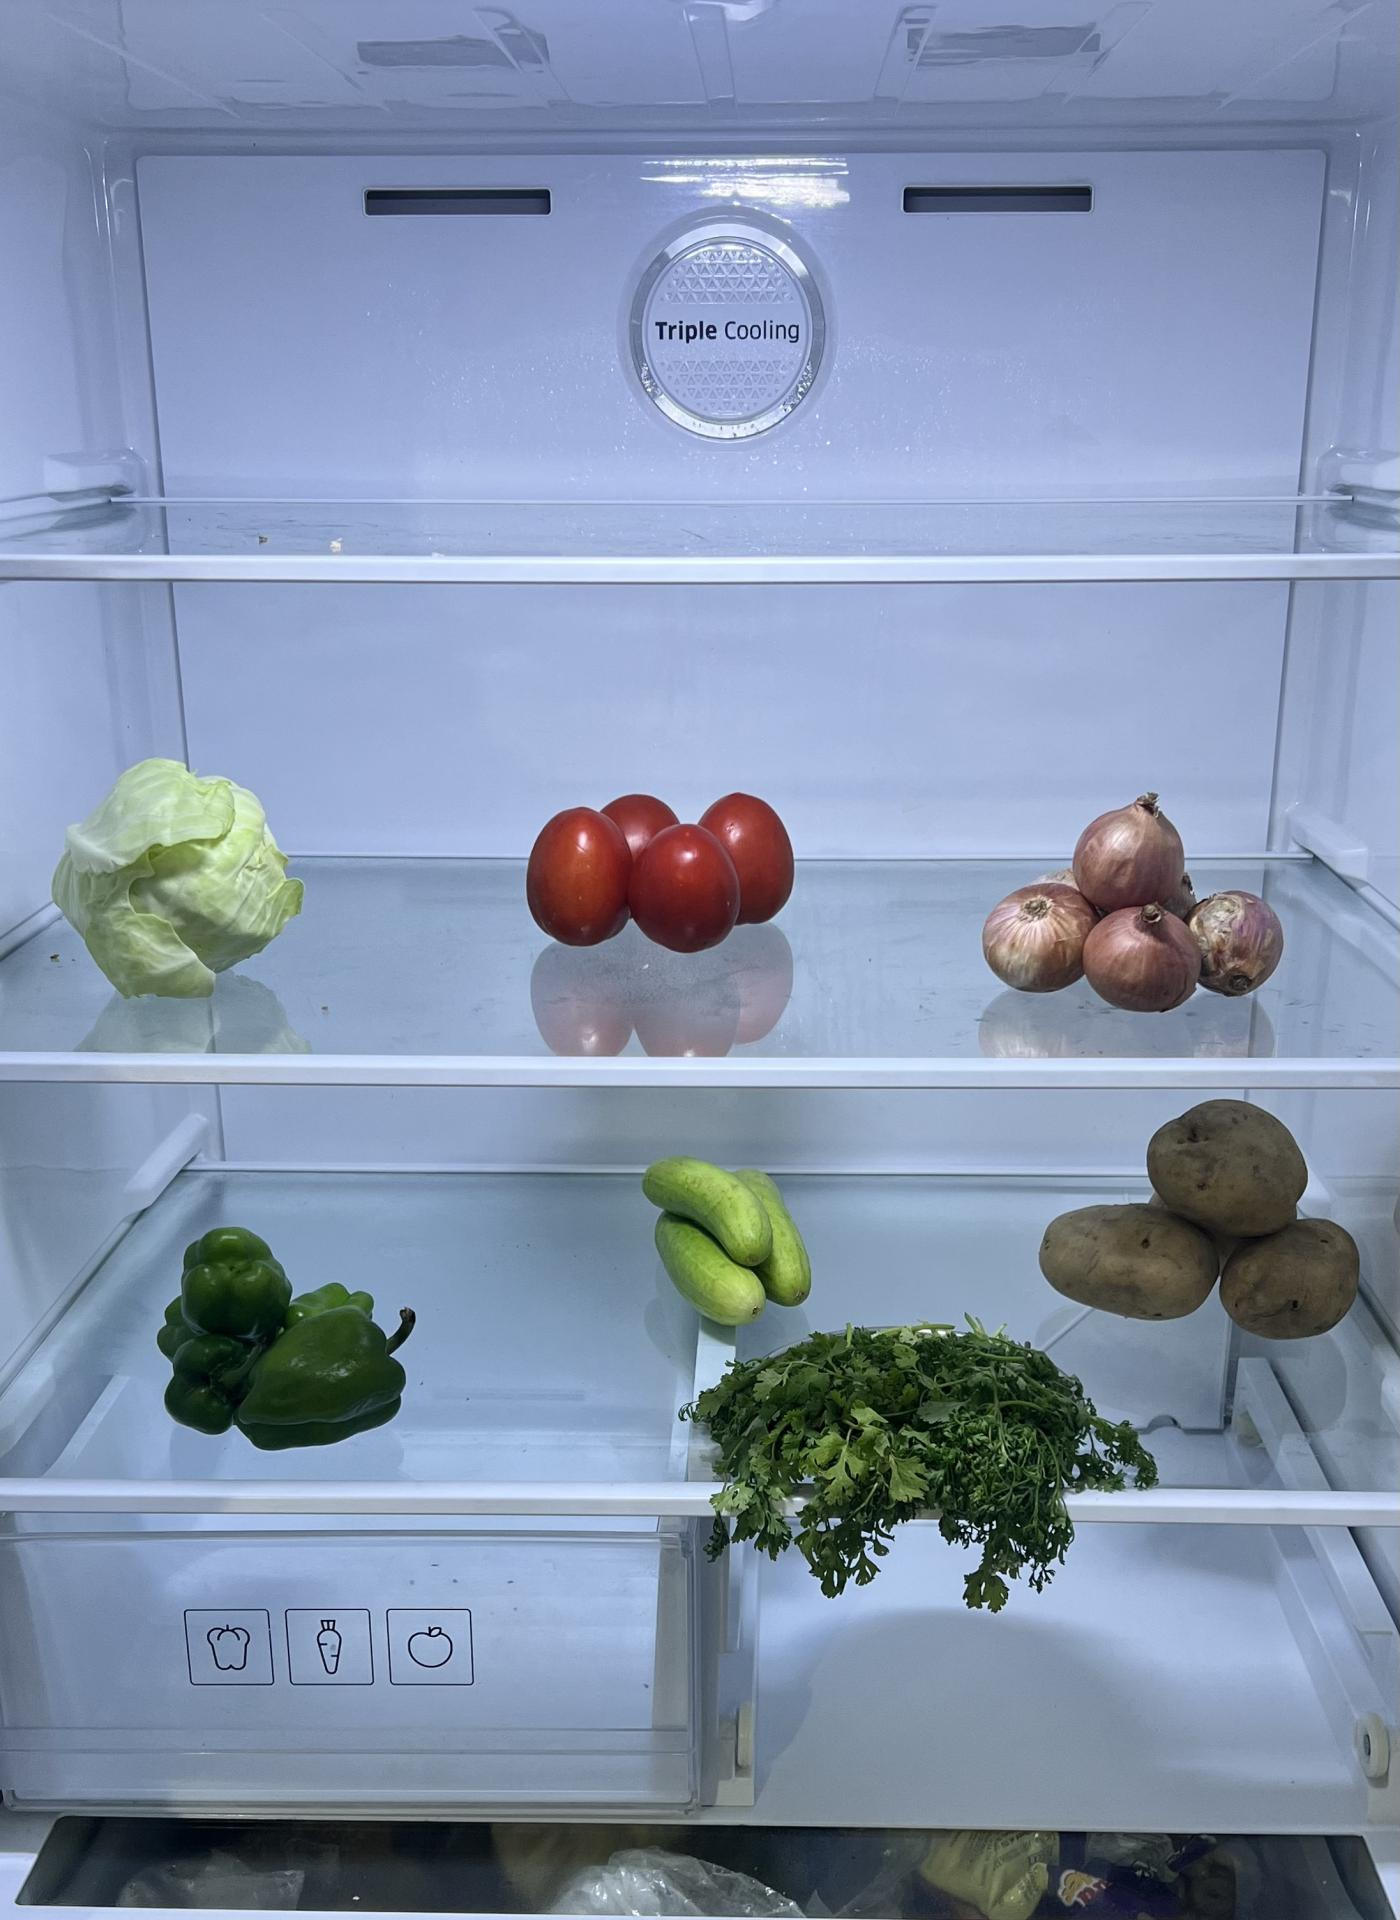bread: (927, 1819, 1396, 1910)
cabbage: (54, 756, 307, 1006)
capsicum: (161, 1218, 420, 1441)
coriander: (695, 1324, 1141, 1562)
cucumber: (646, 1154, 811, 1325)
onion: (986, 781, 1293, 1008)
potato: (1038, 1102, 1364, 1340)
tomato: (522, 786, 799, 956)
